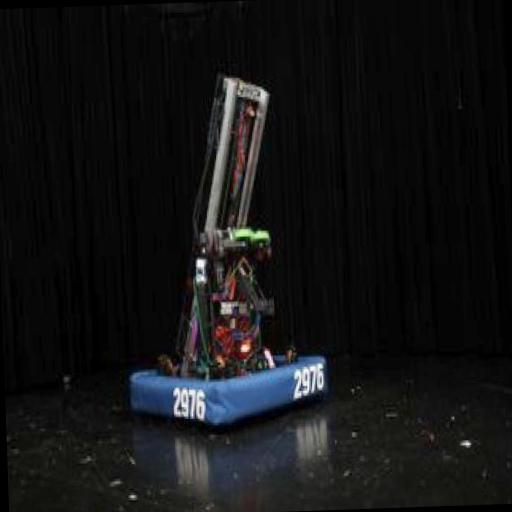robot: (113, 60, 338, 446)
